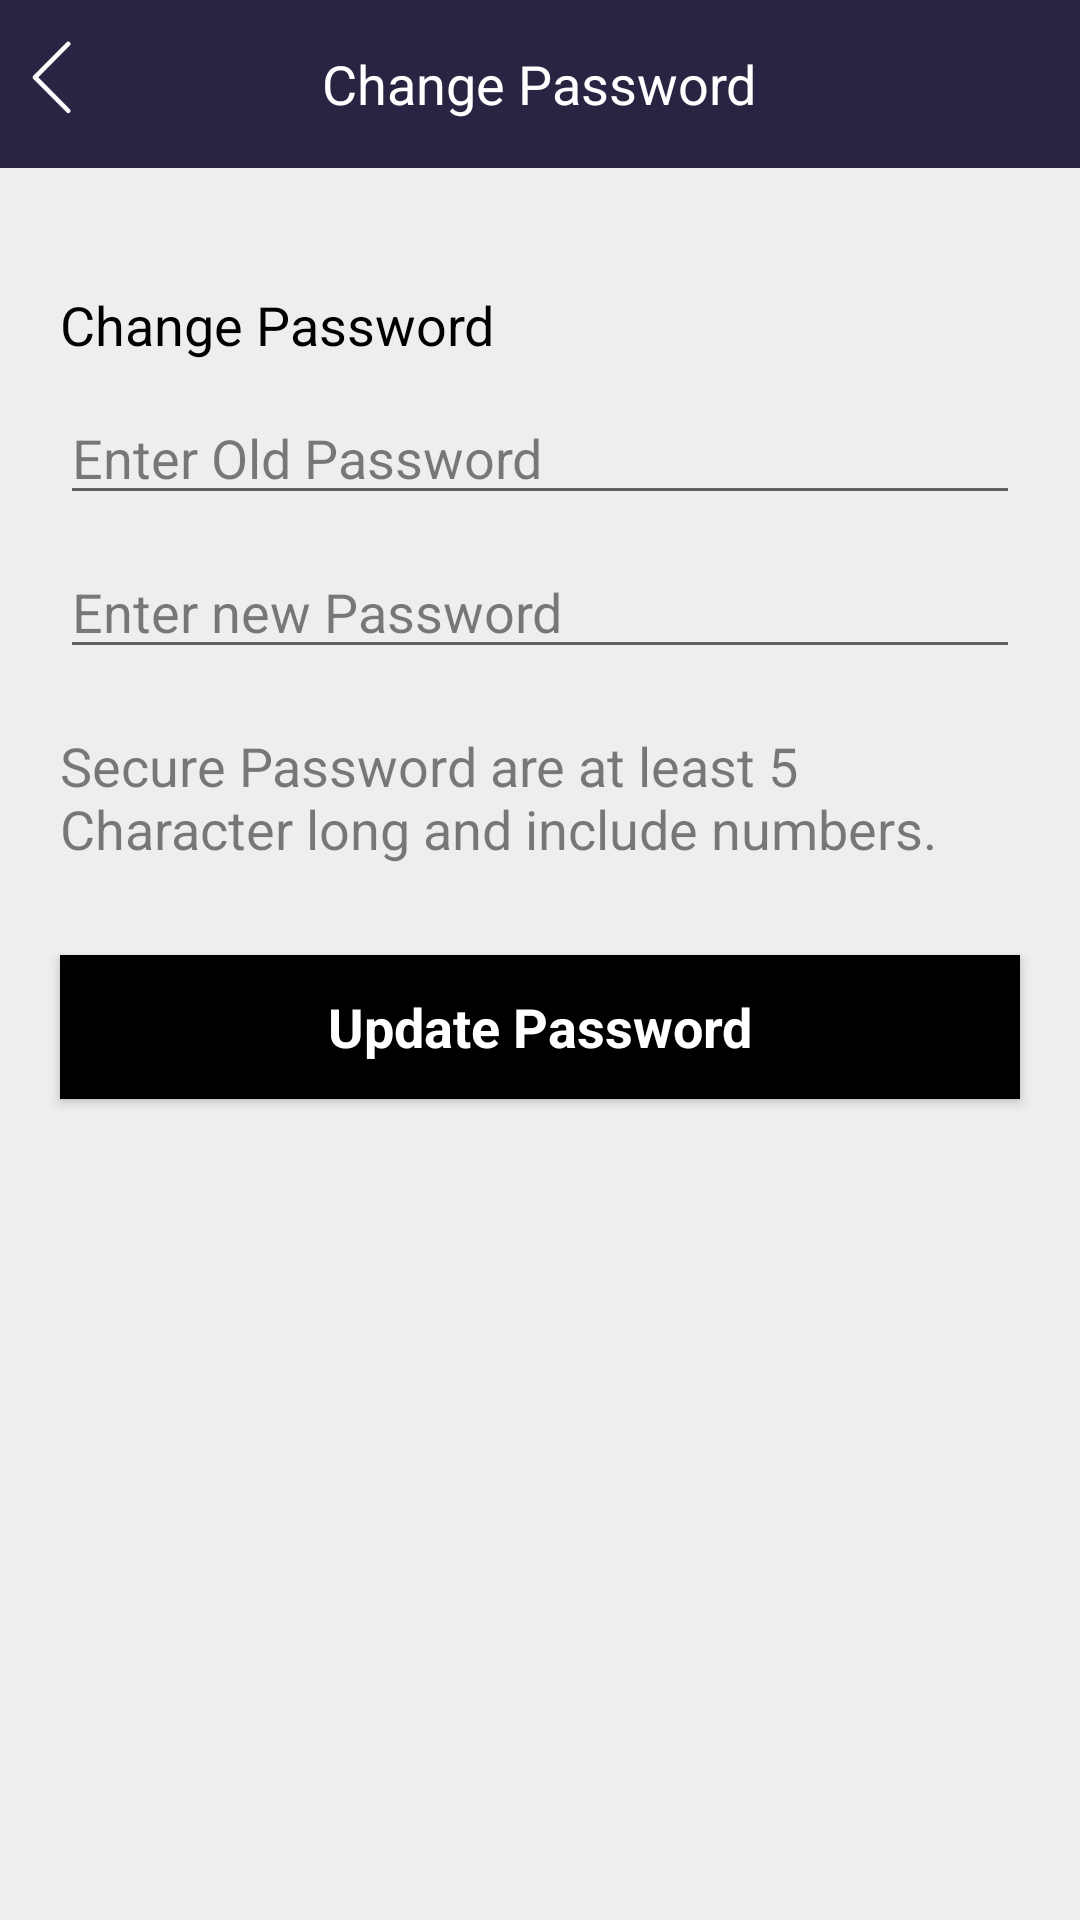

Where icons sit on this 1080x1920 app screen, as (x1, y1, x2, y2):
back: (32, 41, 71, 114)
